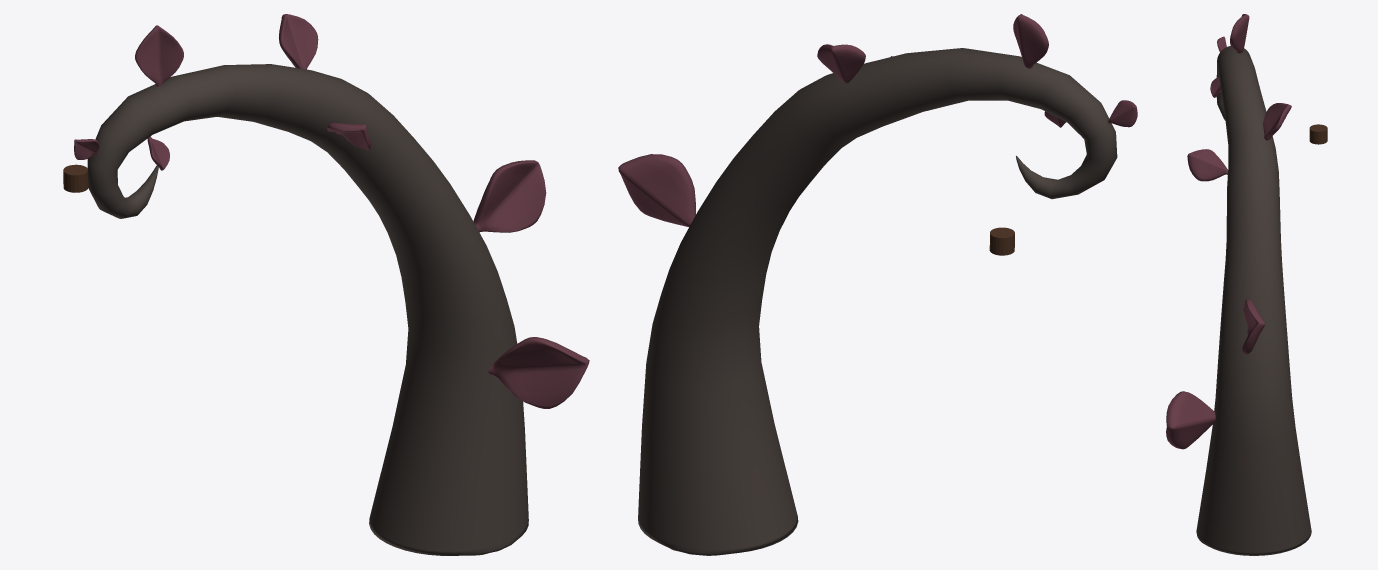
Rendered from PT_PoisonTree-All-01.fbx.
3 views of the same model, side by side, from view 1: azimuth 30°, elevation 25°; view 2: azimuth 150°, elevation 25°; view 3: azimuth 270°, elevation 25° (orthographic). The views are drawn at different scales.
Parts seen in each view (by area): view 1: PT_branchthiny, PT_leaf7, PT_leaf1, PT_leaf2, PT_leaf4, PT_leaf3; view 2: PT_branchthiny, PT_leaf1, PT_leaf4, PT_leaf2, PT_Poisonbottle_01; view 3: PT_branchthiny, PT_leaf7, PT_leaf3, PT_leaf1, PT_leaf4, PT_leaf2, PT_Poisonbottle_01.
Part boxes in pixels (left/top/right/bottom): PT_branchthiny: left=87, top=64, right=528, bottom=555; PT_leaf7: left=488, top=337, right=589, bottom=408; PT_leaf1: left=473, top=160, right=546, bottom=232; PT_leaf2: left=135, top=25, right=183, bottom=86; PT_leaf4: left=279, top=14, right=318, bottom=69; PT_leaf3: left=327, top=123, right=371, bottom=149; PT_branchthiny: left=638, top=48, right=1117, bottom=555; PT_leaf1: left=618, top=154, right=695, bottom=226; PT_leaf4: left=817, top=44, right=865, bottom=83; PT_leaf2: left=1013, top=14, right=1048, bottom=68; PT_Poisonbottle_01: left=989, top=227, right=1014, bottom=255; PT_branchthiny: left=1196, top=46, right=1311, bottom=555; PT_leaf7: left=1166, top=391, right=1215, bottom=449; PT_leaf3: left=1187, top=149, right=1227, bottom=181; PT_leaf1: left=1242, top=299, right=1265, bottom=354; PT_leaf4: left=1263, top=103, right=1291, bottom=140; PT_leaf2: left=1230, top=14, right=1249, bottom=53; PT_Poisonbottle_01: left=1309, top=124, right=1327, bottom=144.
Size of the model in its own units: 6.16 by 6.93 by 2.99.
